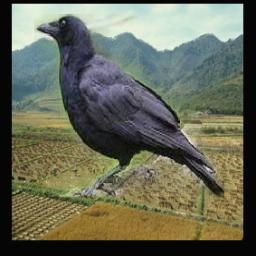Crow: (34, 14, 224, 197)
